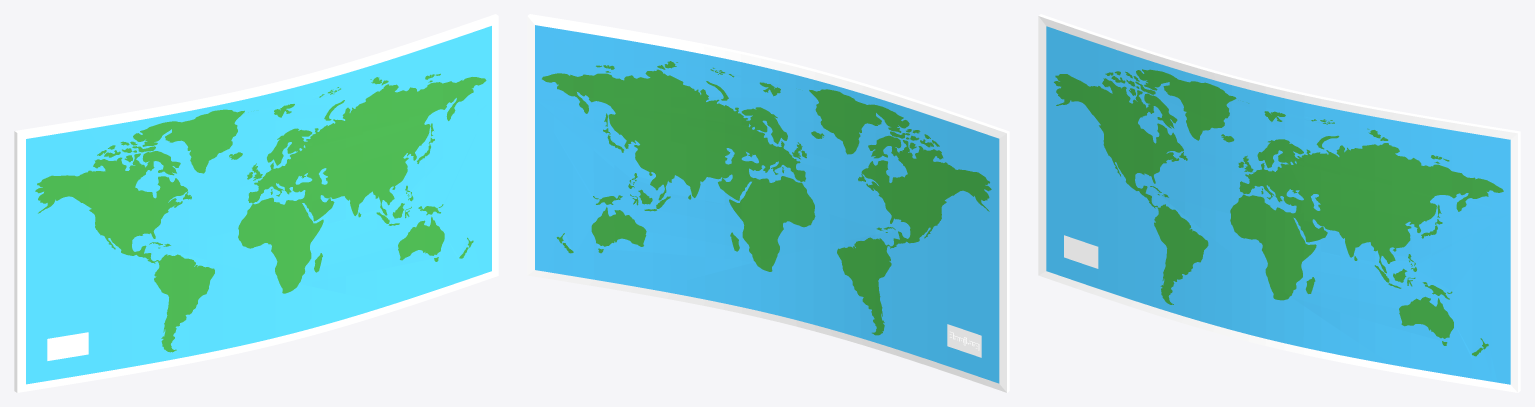
Rendered from world_map.gltf.
3 renders of one model, left to right at view 1: azimuth 30°, elevation 25°; view 2: azimuth 150°, elevation 25°; view 3: azimuth 330°, elevation 25°, orthographic.
Visible parts, largest first — view 1: Plane.223; view 2: Plane.223; view 3: Plane.223.
Part boxes in pixels (x1,y1,x2,y2): Plane.223: (14,14,498,392); Plane.223: (527,14,1009,392); Plane.223: (1038,14,1520,392).
Bounding box in the file's own units: 2.2 × 1.14 × 0.1429.
1 material, 1 textured.
